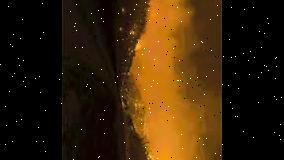fire: (117, 0, 163, 58)
